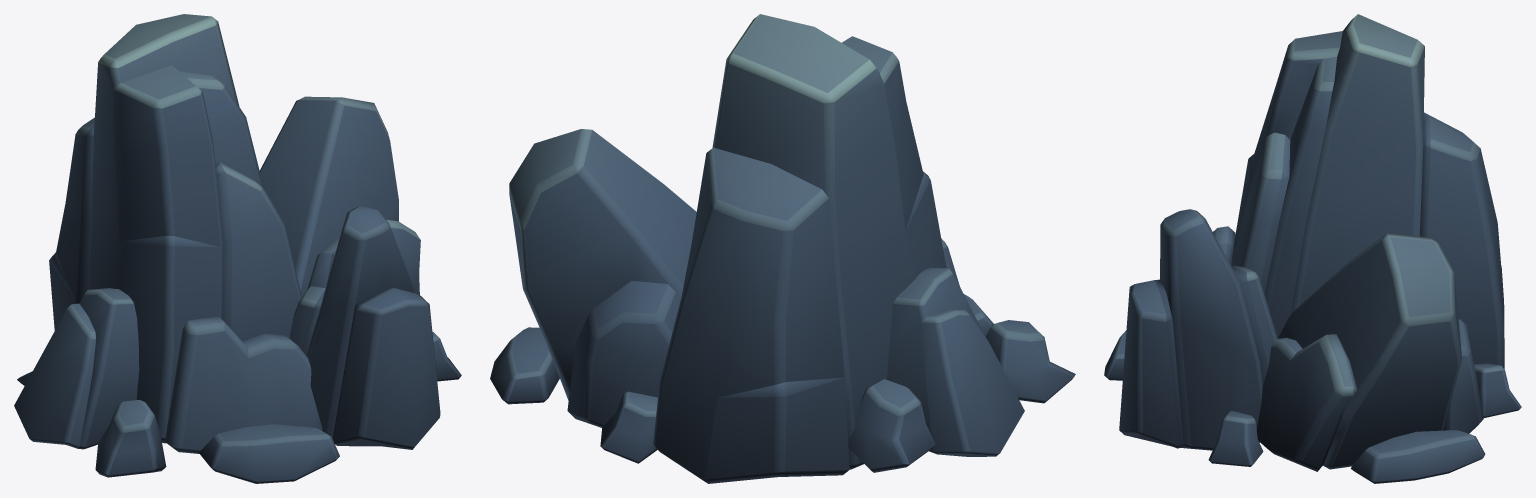
File: rock_arrangement_medium_1.fbx
3 views of the same model, side by side, from view 1: azimuth 30°, elevation 25°; view 2: azimuth 150°, elevation 25°; view 3: azimuth 270°, elevation 25° (orthographic). The views are drawn at different scales.
Visible parts, largest first — view 1: rock_arrangement_medium_1; view 2: rock_arrangement_medium_1; view 3: rock_arrangement_medium_1.
Part boxes in pixels (x1,y1,x2,y2): rock_arrangement_medium_1: [14, 14, 461, 483]; rock_arrangement_medium_1: [490, 14, 1075, 483]; rock_arrangement_medium_1: [1104, 14, 1521, 483].
Bounding box in the file's own units: 532 × 473 × 475.
Materials: 1 (1 with a texture image).
